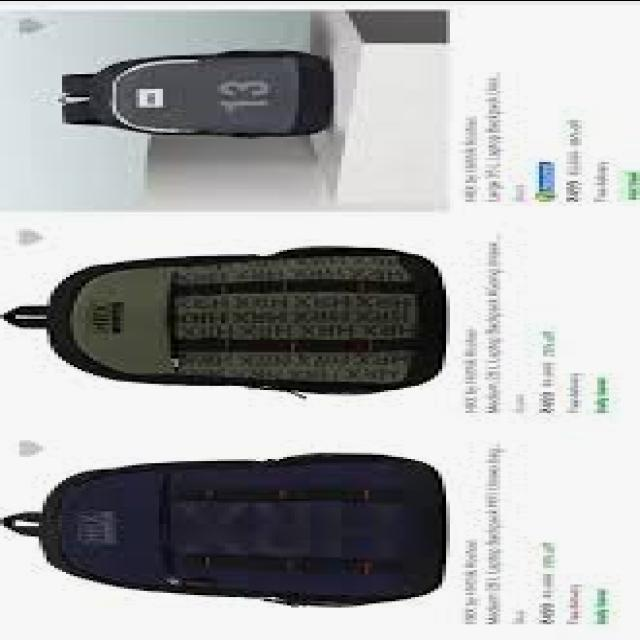backpack: (8, 445, 482, 620), (1, 242, 466, 409), (1, 453, 447, 610), (51, 37, 381, 143), (55, 51, 331, 139)
